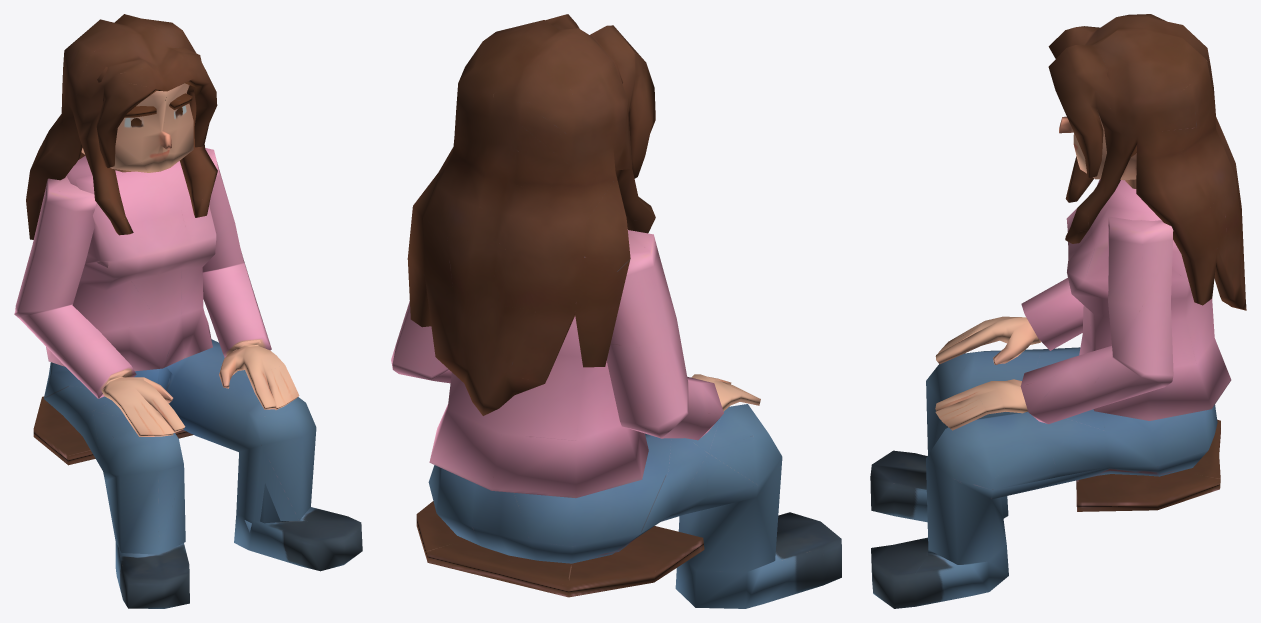
The model's file is pax_w1.glb.
3 renders of one model, left to right at view 1: azimuth 30°, elevation 25°; view 2: azimuth 150°, elevation 25°; view 3: azimuth 270°, elevation 25°, orthographic. The views are drawn at different scales.
Visible parts, largest first — view 1: geometry_0; view 2: geometry_0; view 3: geometry_0.
Boxes of the visible parts, bbox=[...] form: geometry_0: bbox=[14, 14, 362, 608]; geometry_0: bbox=[391, 14, 841, 608]; geometry_0: bbox=[870, 14, 1246, 608].
Size of the model in its own units: 0.5182 by 1 by 0.6546.
1 material, 1 textured.
